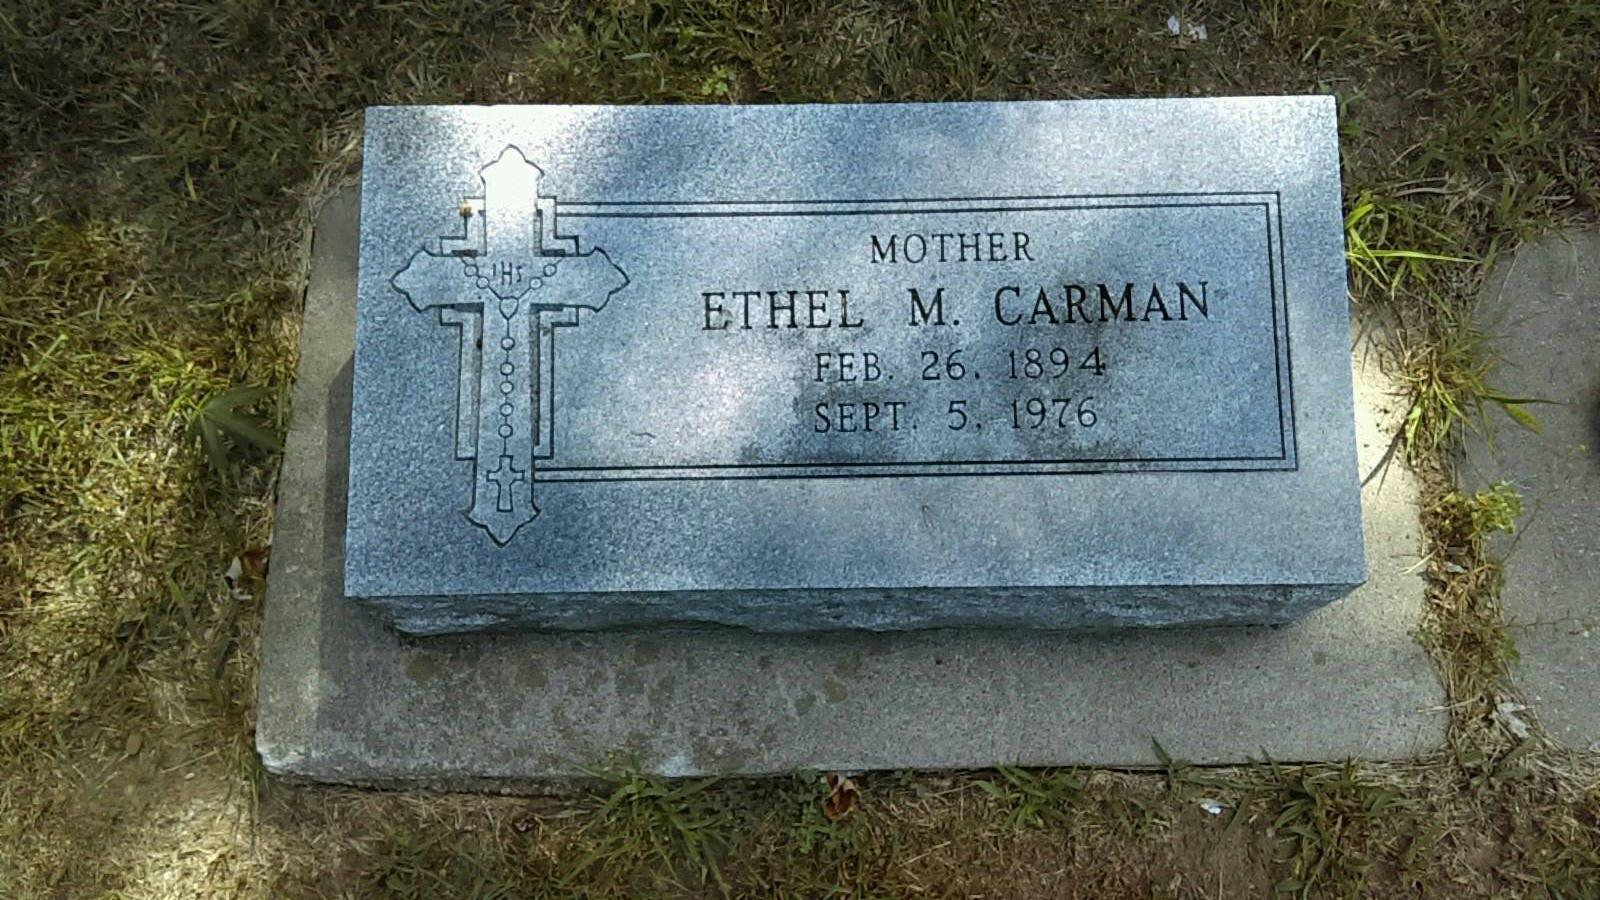flat: (259, 85, 1442, 760)
